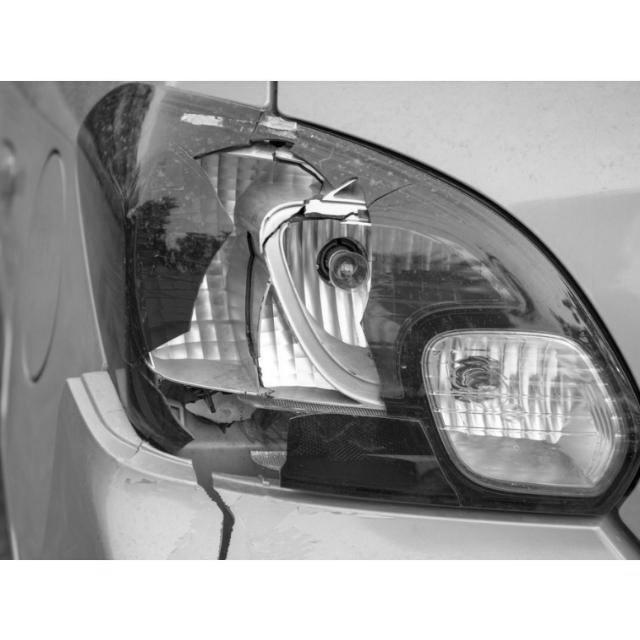Taillight-Damage: (119, 91, 494, 529)
